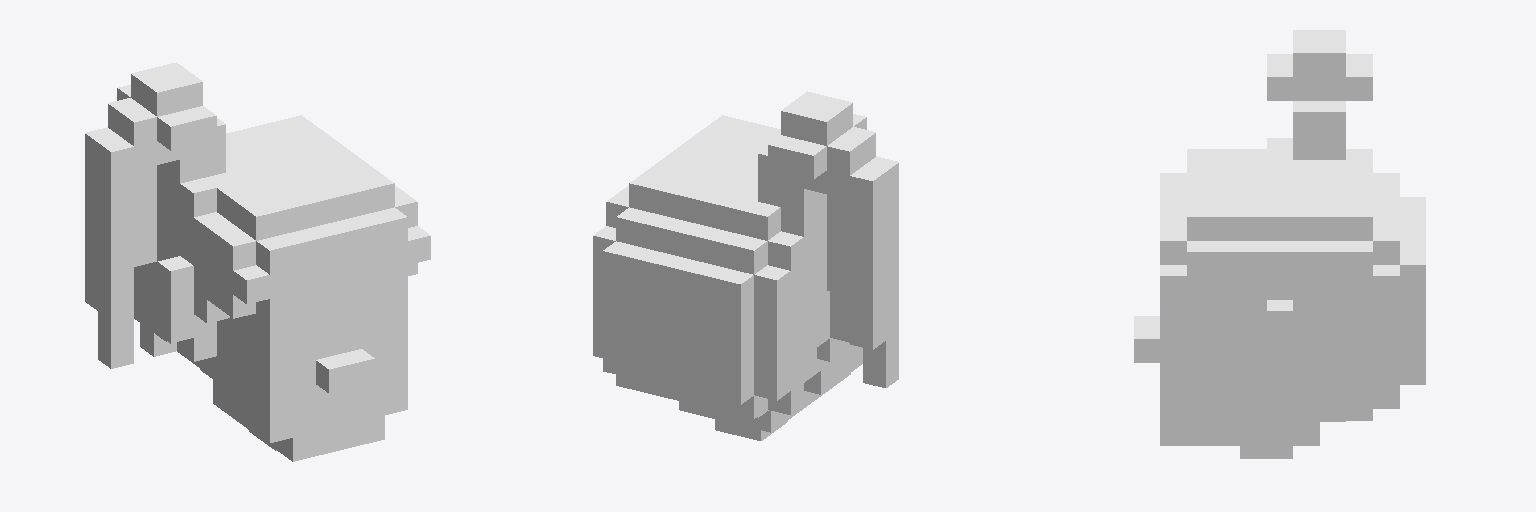
Rendered from female-30.obj.
The picture shows the model from 3 angles: view 1: azimuth 30°, elevation 25°; view 2: azimuth 150°, elevation 25°; view 3: azimuth 270°, elevation 25°; orthographic projection.
Parts seen in each view (by area): view 1: object 1; view 2: object 1; view 3: object 1.
Part boxes in pixels (left/top/right/bottom): object 1: left=85, top=62, right=430, bottom=461; object 1: left=593, top=91, right=898, bottom=440; object 1: left=1134, top=30, right=1425, bottom=458.
Bounding box in the file's own units: 1.2 × 1.5 × 1.1.